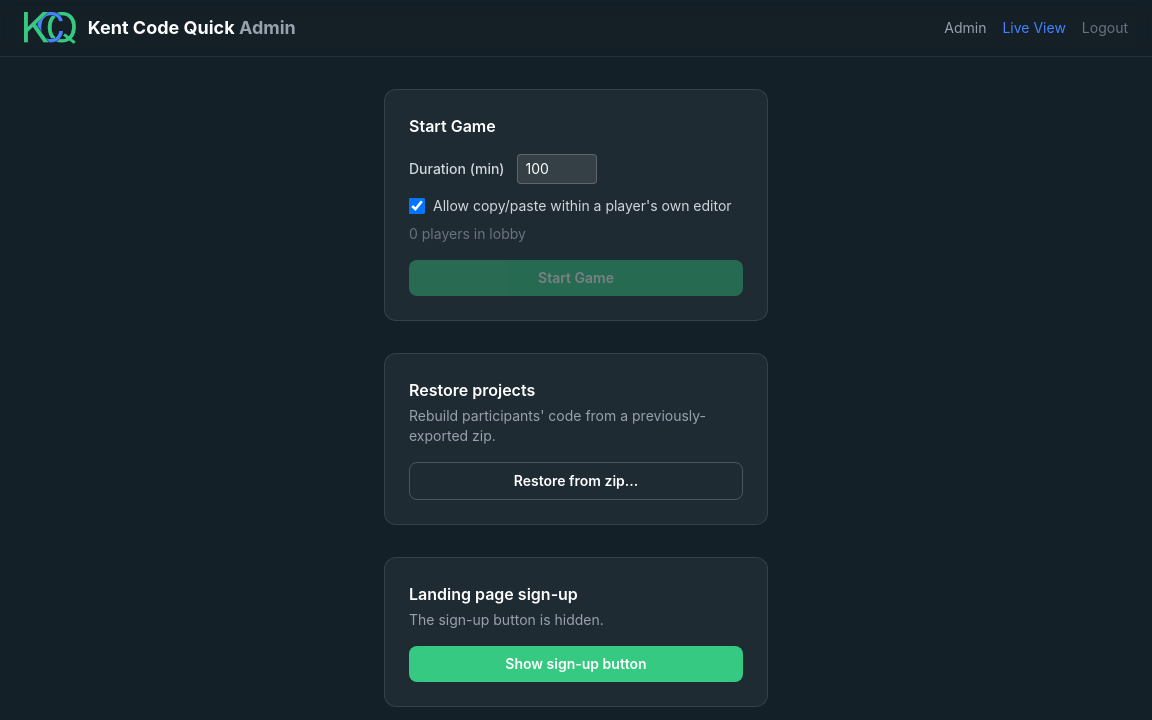
it: Admin page - landing page sign-up switch › opens sign-ups and reflects what the server returns
Step 1. Click the button with test id "toggle-signup" → (576, 664), box [409,646,743,682]
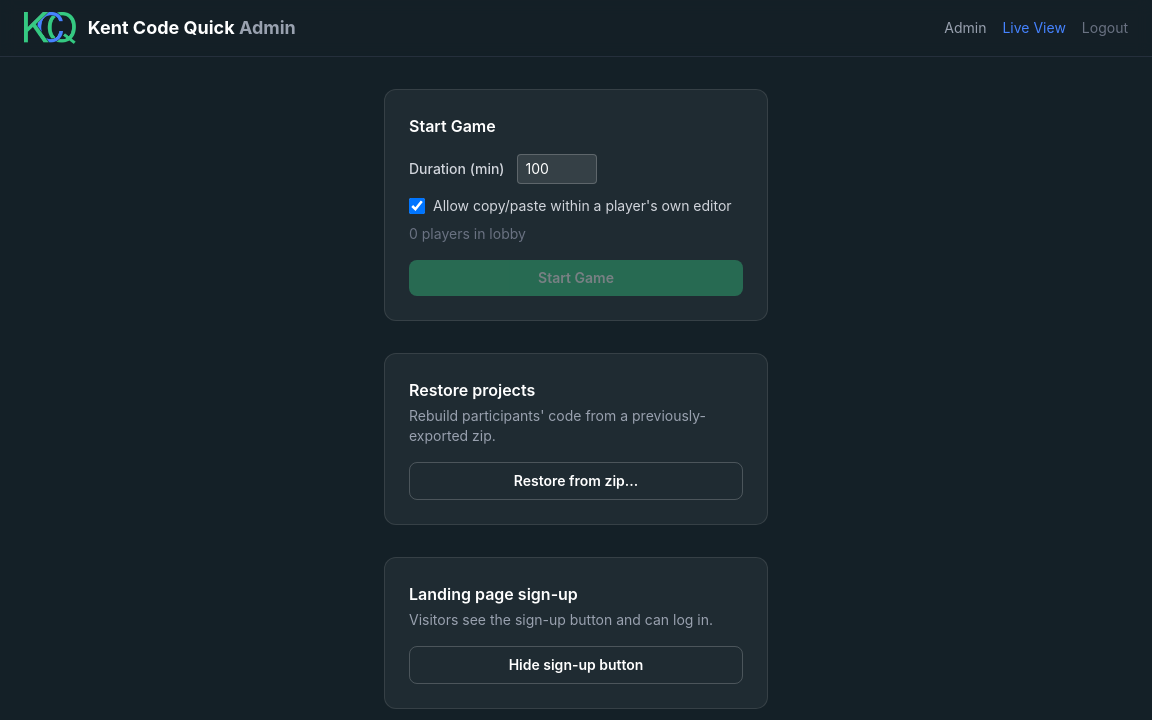
Now the button with test id "toggle-signup" reads "Hide sign-up button", box [409,646,743,684]
